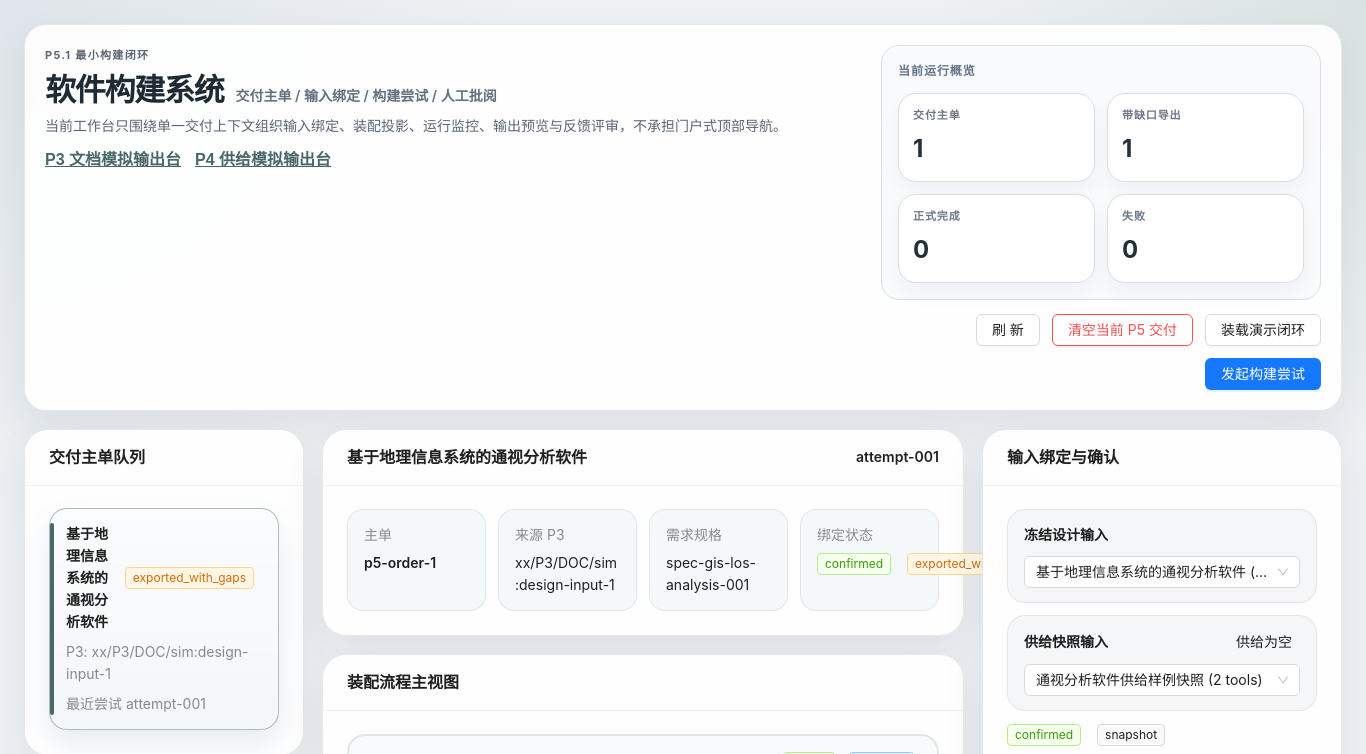
Scenario: clears current p5 deliveries and returns the workspace to the empty state
Expected: the 2nd text "基于地理信息系统的通视分析软件" is shown, 66,525 -> 108,630
Click the button "清空当前 P5 交付".
click(1122, 330)  # box 1052,314 -> 1193,346
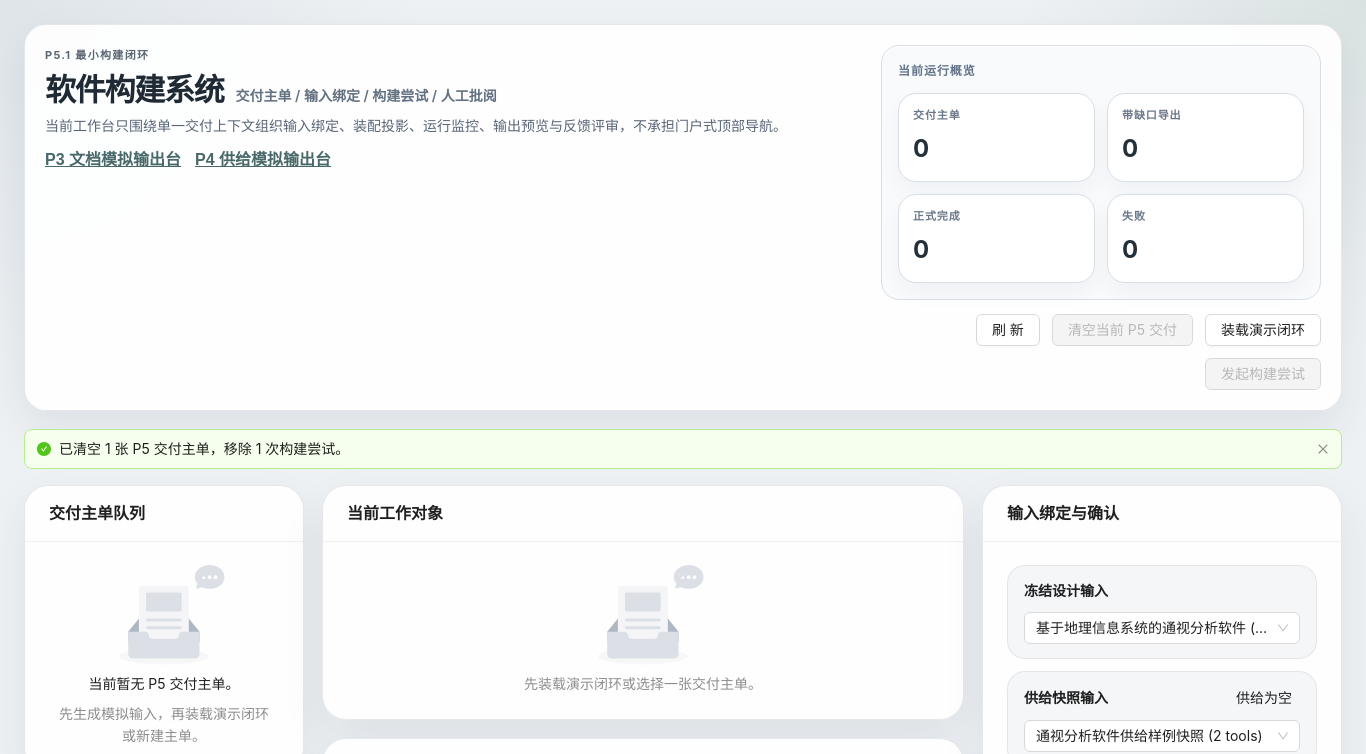
Now the text "当前暂无 P5 交付主单。" is shown, box 88,675 -> 240,692
